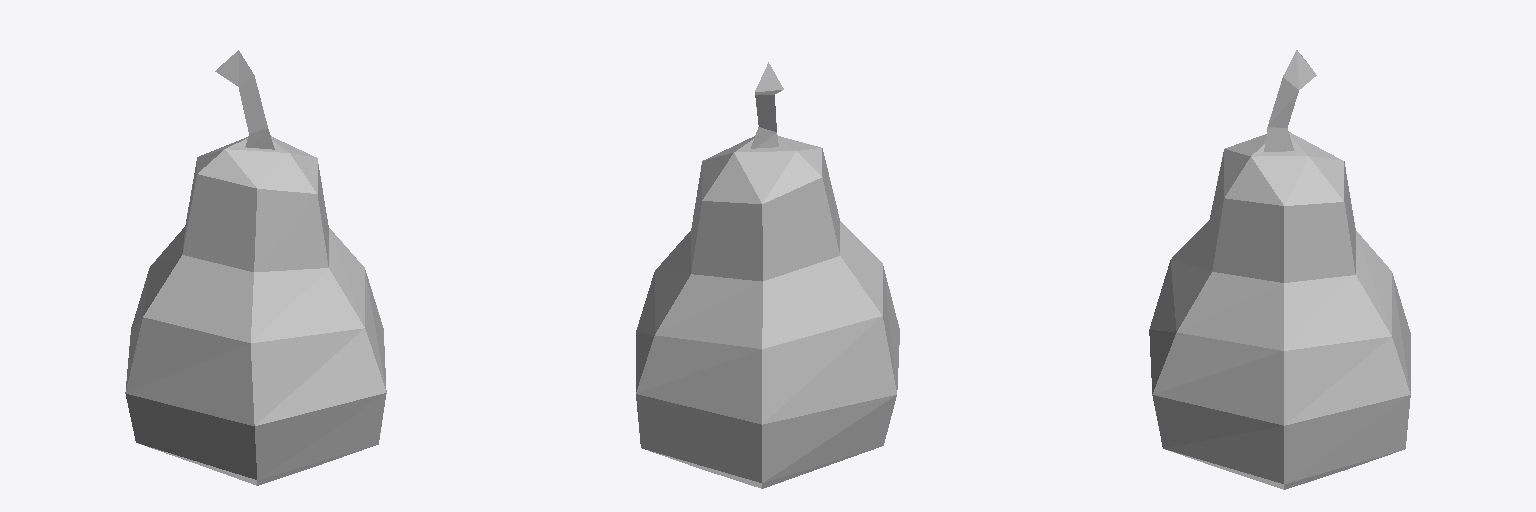
Rendered from SM_Prop_Pear_01.obj.
3 renders of one model, left to right at view 1: azimuth 30°, elevation 25°; view 2: azimuth 150°, elevation 25°; view 3: azimuth 270°, elevation 25°, orthographic.
Bounding box in the file's own units: 15.53 × 23.08 × 13.53.